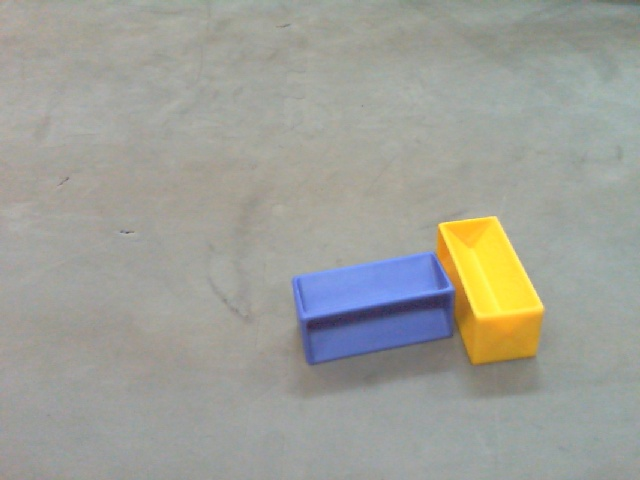BlueSample: (286, 251, 459, 368)
YellowSample: (435, 211, 547, 374)
